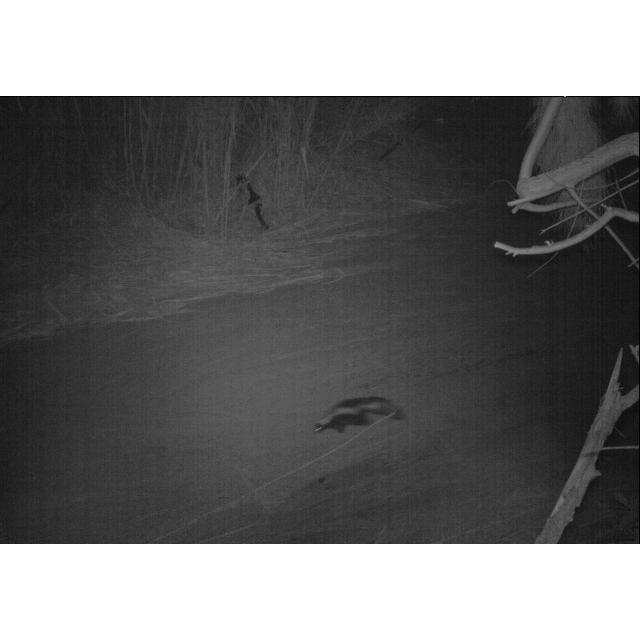animals: (309, 392, 409, 438)
